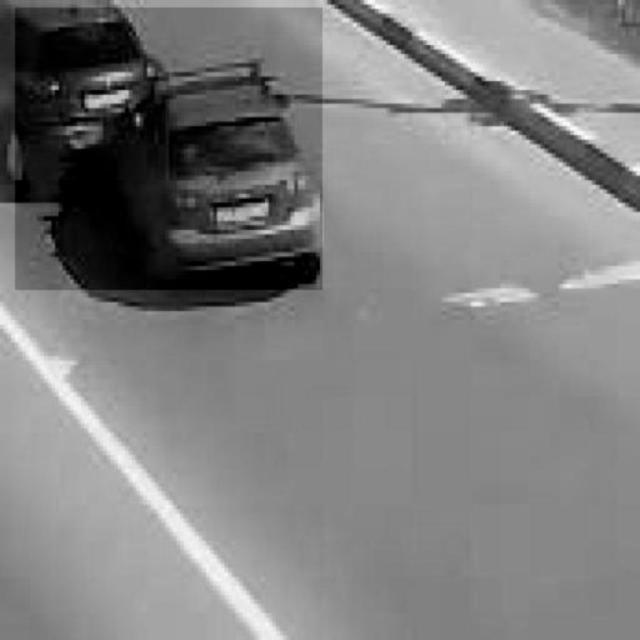accident: (14, 7, 322, 289)
